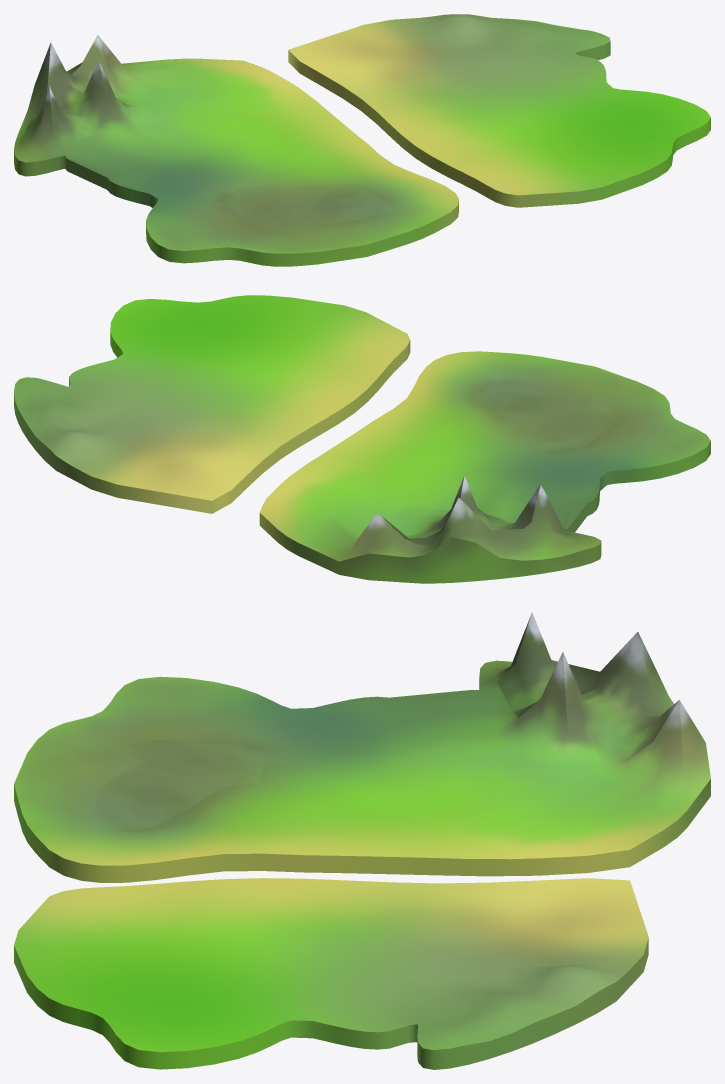
The model's file is SM_Location.fbx.
3 renders of one model, top to bottom at view 1: azimuth 30°, elevation 25°; view 2: azimuth 150°, elevation 25°; view 3: azimuth 270°, elevation 25°, orthographic. The views are drawn at different scales.
Parts seen in each view (by area): view 1: SM_Location; view 2: SM_Location; view 3: SM_Location.
Boxes of the visible parts, <box> form: SM_Location: <box>14,14,710,266</box>; SM_Location: <box>14,295,710,583</box>; SM_Location: <box>14,612,710,1069</box>.
Size of the model in its own units: 63130 by 7976 by 47731.
